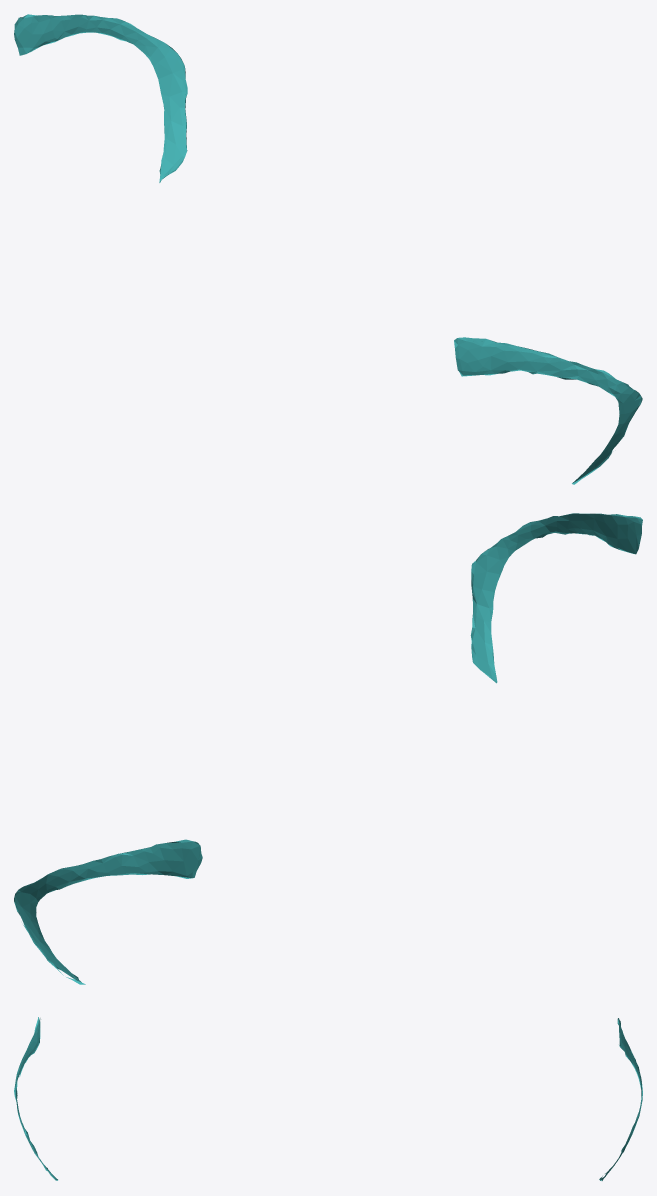
3 renders of one model, top to bottom at view 1: azimuth 30°, elevation 25°; view 2: azimuth 150°, elevation 25°; view 3: azimuth 270°, elevation 25°, orthographic. The views are drawn at different scales.
Parts seen in each view (by area): view 1: 786.obj; view 2: 786.obj; view 3: 786.obj.
Part boxes in pixels (x1,y1,x2,y2): 786.obj: (14, 14, 642, 484); 786.obj: (14, 513, 642, 984); 786.obj: (14, 1017, 642, 1180).
Bounding box in the file's own units: 1890 × 1894 × 8724.
